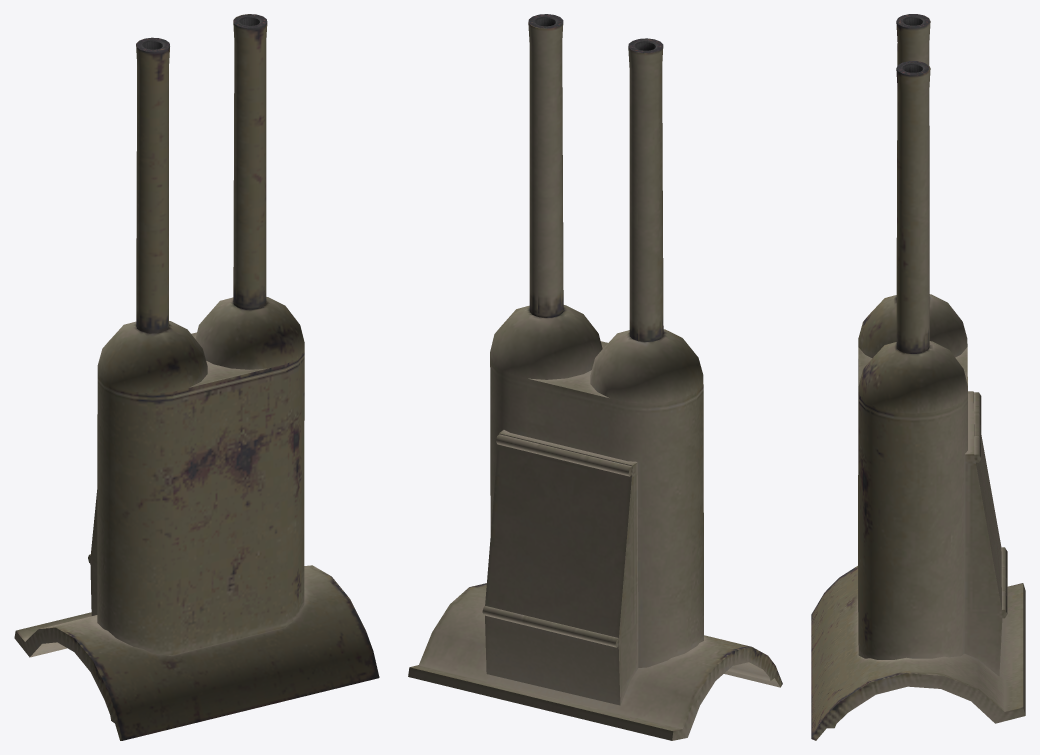
The model's file is Gun_01.glb.
The picture shows the model from 3 angles, left to right: view 1: azimuth 30°, elevation 25°; view 2: azimuth 150°, elevation 25°; view 3: azimuth 270°, elevation 25°; orthographic projection. The views are drawn at different scales.
Parts seen in each view (by area): view 1: set_0_group_0; view 2: set_0_group_0; view 3: set_0_group_0.
Part boxes in pixels (x1=…): set_0_group_0: x1=14, y1=14, x2=379, y2=740; set_0_group_0: x1=408, y1=14, x2=782, y2=740; set_0_group_0: x1=811, y1=14, x2=1025, y2=740.
Size of the model in its own units: 0.5564 by 1.32 by 0.4045.
1 material, 1 textured.
